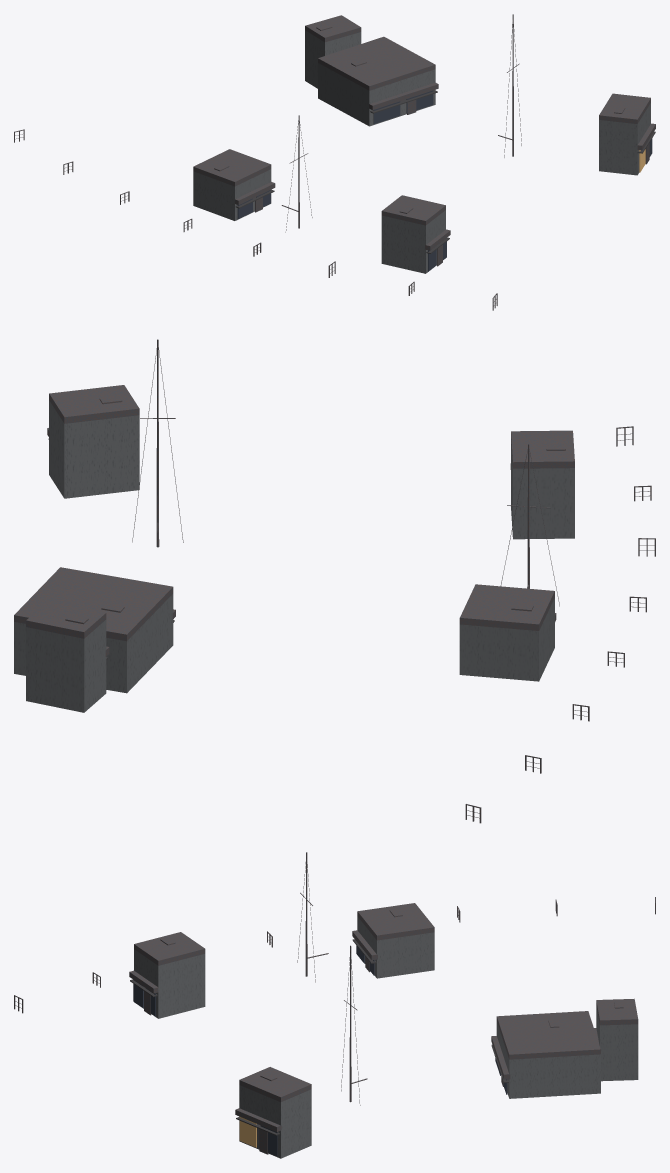
Rendered from SM_City_AlHilal_4.fbx.
The picture shows the model from 3 angles, top to bottom: view 1: azimuth 30°, elevation 25°; view 2: azimuth 150°, elevation 25°; view 3: azimuth 270°, elevation 25°; orthographic projection. The views are drawn at different scales.
Parts seen in each view (by area): view 1: SM_City_AlHilal_4; view 2: SM_City_AlHilal_4; view 3: SM_City_AlHilal_4.
Boxes of the visible parts, x1=… form: SM_City_AlHilal_4: x1=14, y1=14, x2=655, y2=310; SM_City_AlHilal_4: x1=14, y1=339, x2=655, y2=823; SM_City_AlHilal_4: x1=14, y1=852, x2=655, y2=1158.
Bounding box in the file's own units: 5407 × 1561 × 5828.
5 materials, 5 textured.
